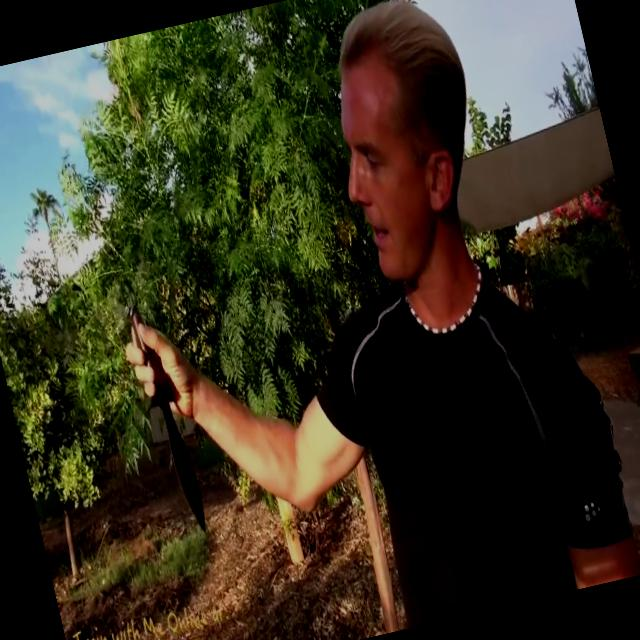knife: (112, 270, 225, 549)
